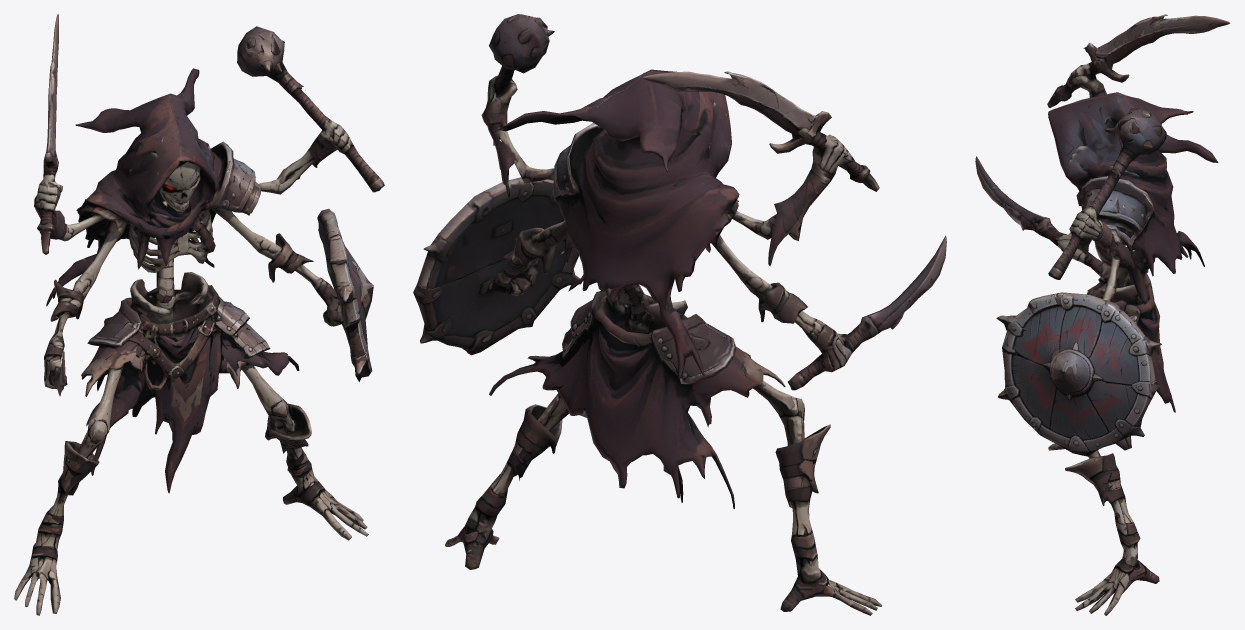
The picture shows the model from 3 angles, left to right: view 1: azimuth 30°, elevation 25°; view 2: azimuth 150°, elevation 25°; view 3: azimuth 270°, elevation 25°; orthographic projection. The views are drawn at different scales.
Parts seen in each view (by area): view 1: tripo_node_fb136cc5-6c94-4a58-9e5b-639c9e5cd9fb; view 2: tripo_node_fb136cc5-6c94-4a58-9e5b-639c9e5cd9fb; view 3: tripo_node_fb136cc5-6c94-4a58-9e5b-639c9e5cd9fb.
Part boxes in pixels (bbox=[...]): tripo_node_fb136cc5-6c94-4a58-9e5b-639c9e5cd9fb: bbox=[14, 14, 384, 615]; tripo_node_fb136cc5-6c94-4a58-9e5b-639c9e5cd9fb: bbox=[413, 14, 946, 615]; tripo_node_fb136cc5-6c94-4a58-9e5b-639c9e5cd9fb: bbox=[975, 14, 1230, 615].
Size of the model in its own units: 0.7334 by 0.9736 by 0.4638.
1 material, 1 textured.
